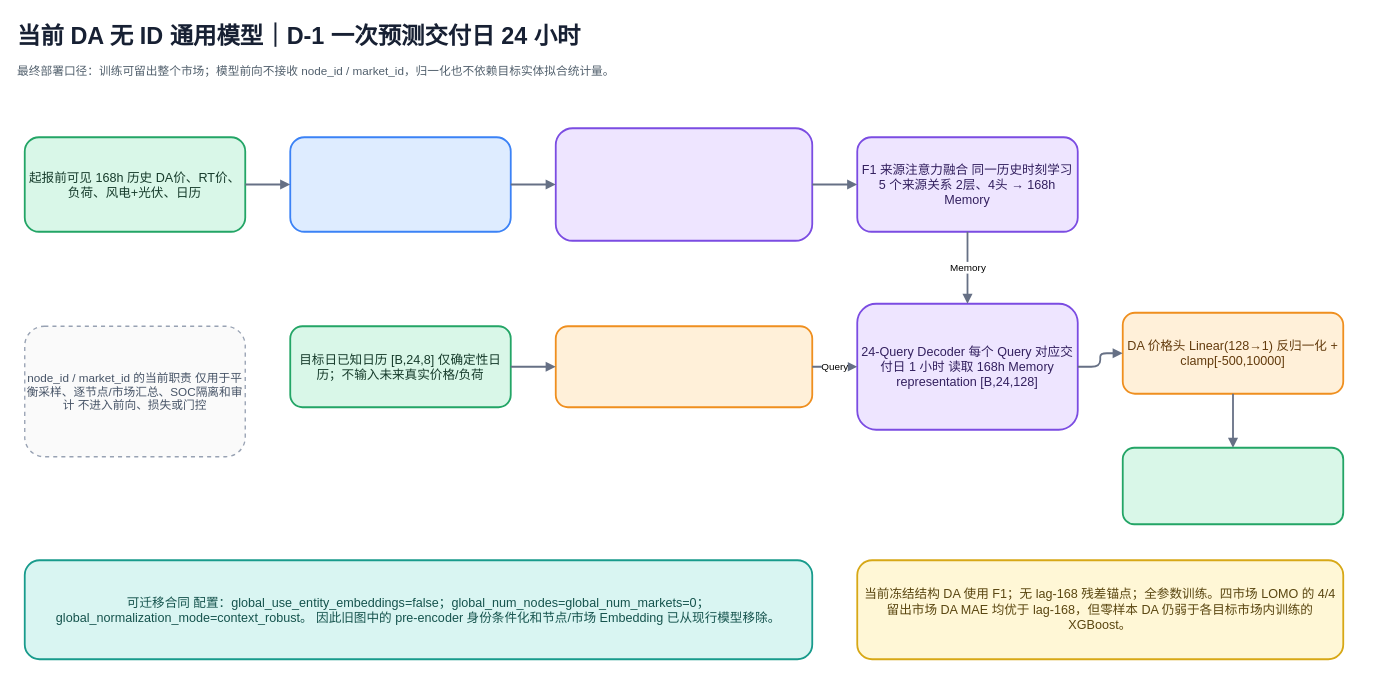
This 1381x675 diagram has some shape labels left out. The centre of each missing label's shape, as x and y in pixels:
5 条独立 StreamEncoder 价格/负荷/系统：2层 Transformer + RoPE 日历：MLP；统一 d_model=128: the point at 683,184
Context-Robust 归一化 历史窗口中位数 / 1.4826×MAD MAD退化时用同窗口std，尺度下限1: the point at 400,184
p_DA [B,24] 交付日 24 小时 DA 价格: the point at 1232,485
目标日历投影 Linear(8→128) + GELU + LayerNorm 形成 24 个 Query 条件: the point at 683,366
